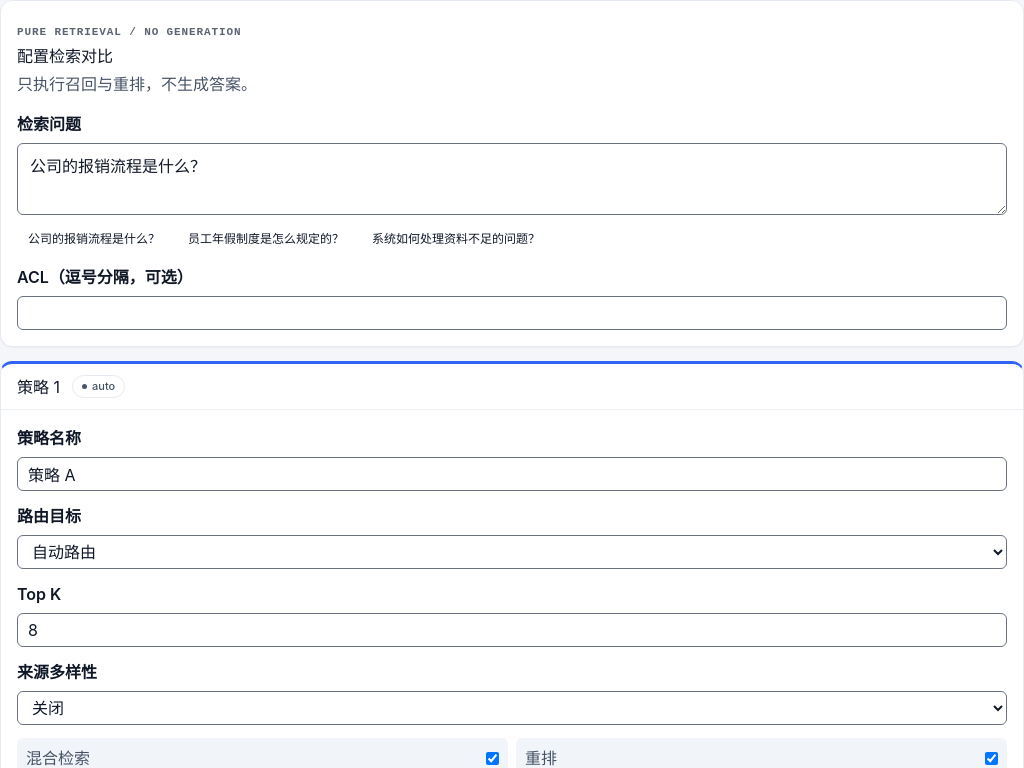
Test: RetrievalComposer › uses sample questions without auto-running
Click the button with aria-label "样例：员工年假制度是怎么规定的？": coordinates (266, 239) [177, 225, 355, 253]
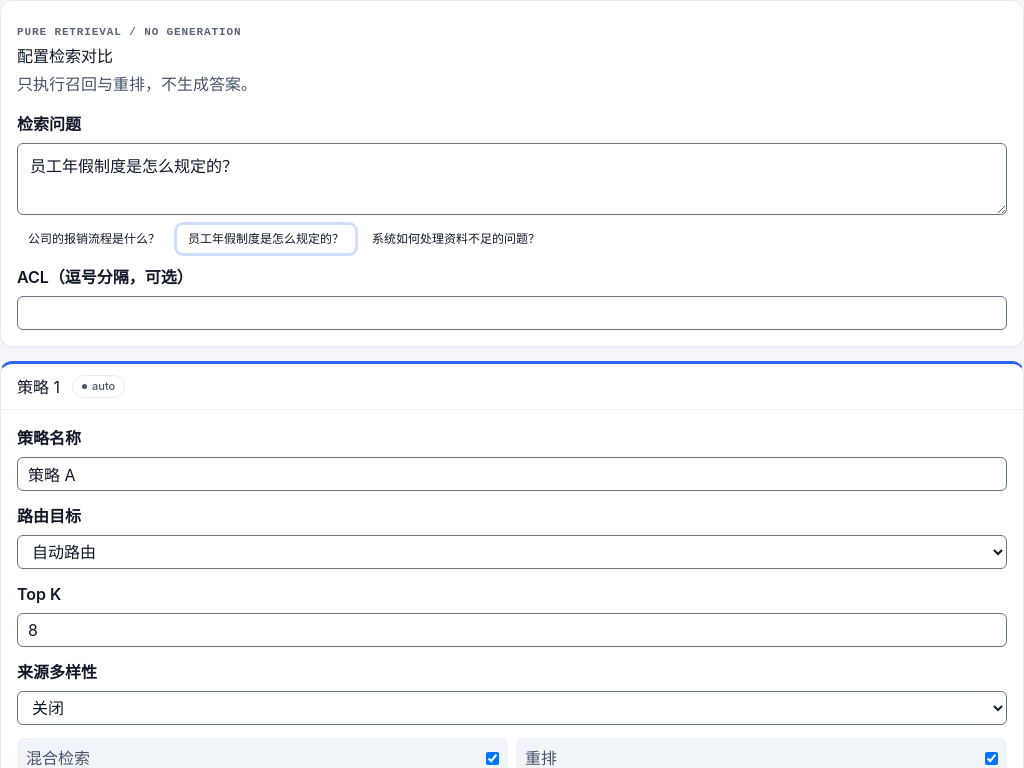
Check: the text box labelled "检索问题" holds "员工年假制度是怎么规定的？", box [17, 143, 1007, 215]
